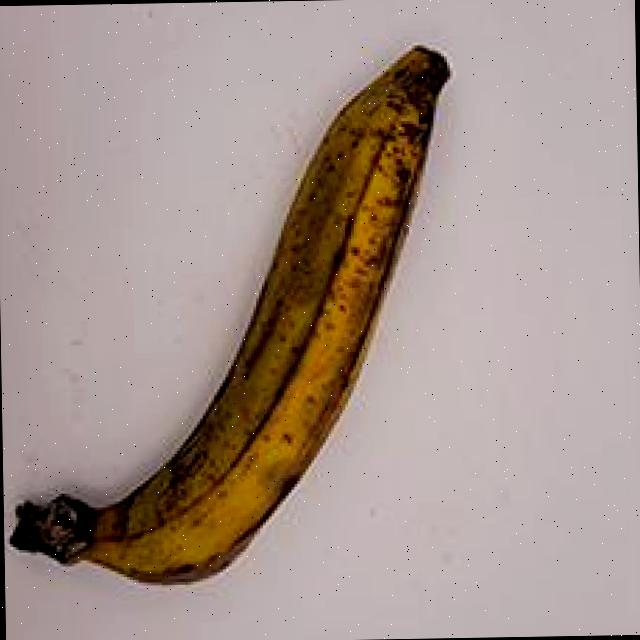Overripe: (0, 21, 485, 605)
